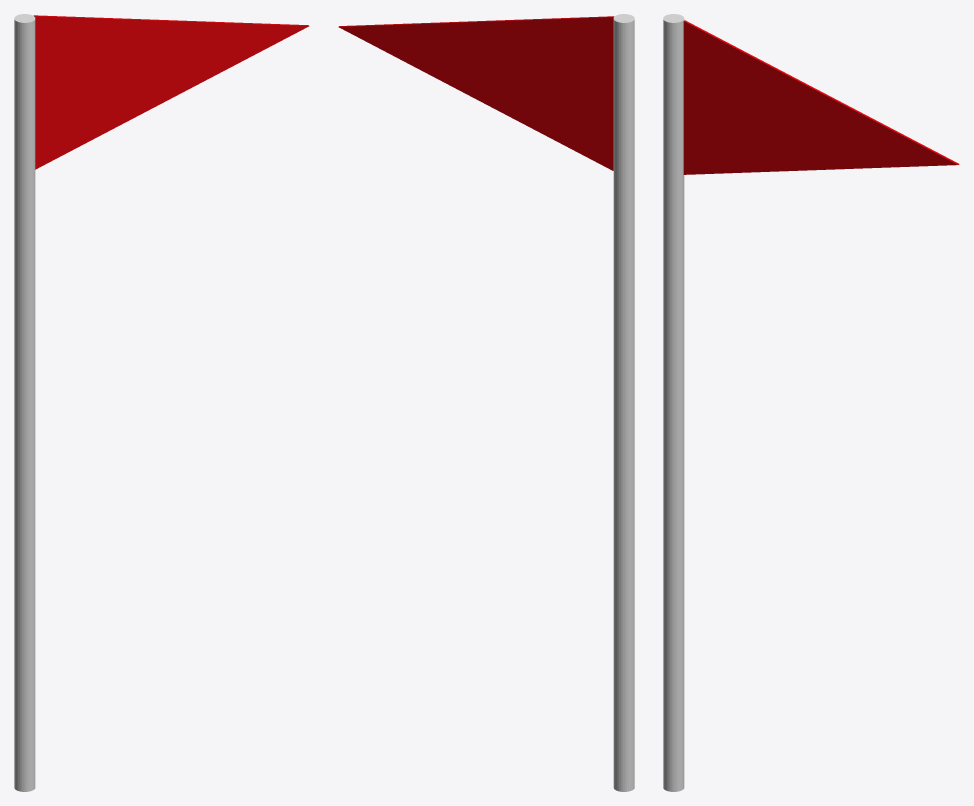
Rendered from golf_flag_v2.fbx.
The picture shows the model from 3 angles, left to right: view 1: azimuth 30°, elevation 25°; view 2: azimuth 150°, elevation 25°; view 3: azimuth 330°, elevation 25°; orthographic projection.
Visible parts, largest first — view 1: Plane, Cylinder; view 2: Plane, Cylinder; view 3: Plane, Cylinder.
Part boxes in pixels (x1=…): Plane: x1=33, y1=15, x2=309, y2=169; Cylinder: x1=14, y1=14, x2=35, y2=791; Plane: x1=338, y1=16, x2=614, y2=170; Cylinder: x1=613, y1=14, x2=634, y2=791; Plane: x1=683, y1=20, x2=959, y2=174; Cylinder: x1=663, y1=14, x2=684, y2=791.
Bounding box in the file's own units: 0.7889 × 1.97 × 0.0493.
